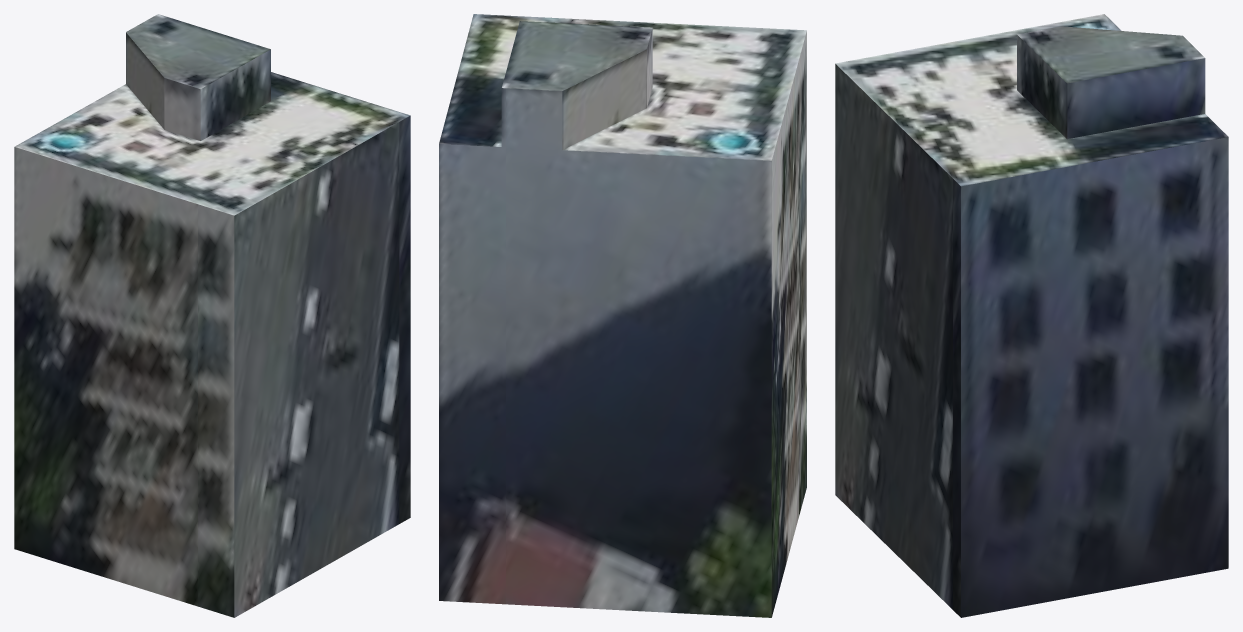
File: DEB_LOD2_UUID_aa57f0e5-64f6-4aa9-b2c8-39cbbef887ea.dae
3 renders of one model, left to right at view 1: azimuth 30°, elevation 25°; view 2: azimuth 150°, elevation 25°; view 3: azimuth 270°, elevation 25°, orthographic. The views are drawn at different scales.
Size of the model in its own units: 17.45 by 16.83 by 23.
Materials: 2 (1 with a texture image).
